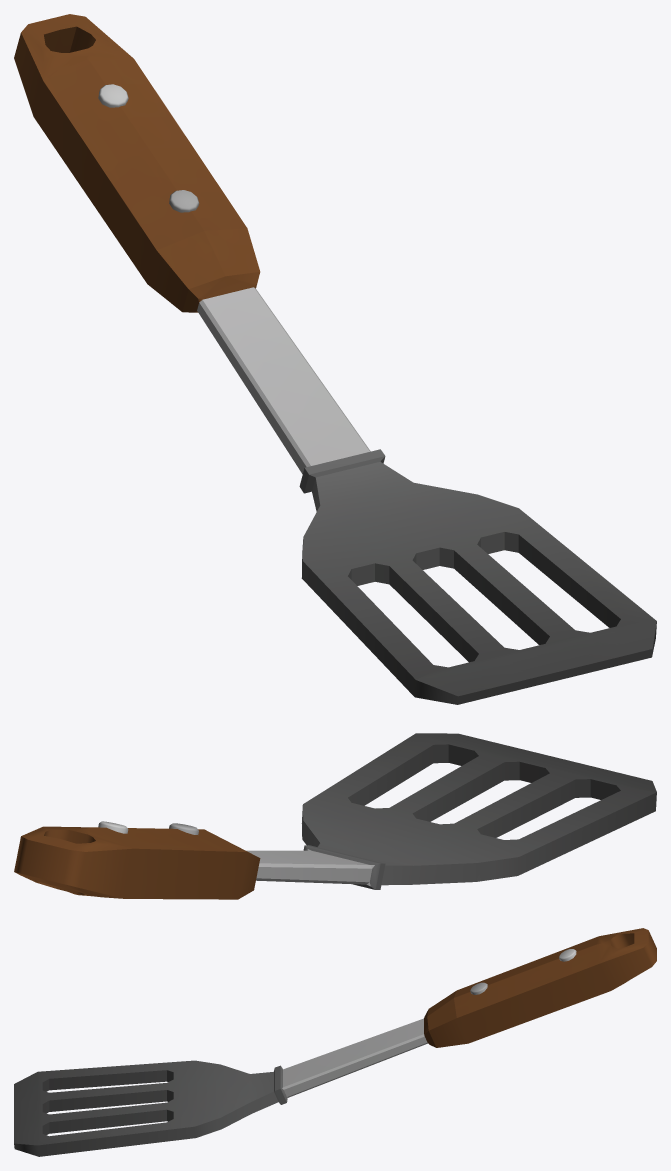
The model's file is Spatula.fbx.
3 renders of one model, top to bottom at view 1: azimuth 30°, elevation 25°; view 2: azimuth 150°, elevation 25°; view 3: azimuth 270°, elevation 25°, orthographic. The views are drawn at different scales.
Visible parts, largest first — view 1: Spatula; view 2: Spatula; view 3: Spatula.
Boxes of the visible parts, box(x1,y1,x2,y2) form: Spatula: box(14, 14, 656, 704); Spatula: box(14, 733, 656, 899); Spatula: box(14, 928, 656, 1156).
Bounding box in the file's own units: 15.87 × 18.42 × 58.48.
Materials: 1 (1 with a texture image).
